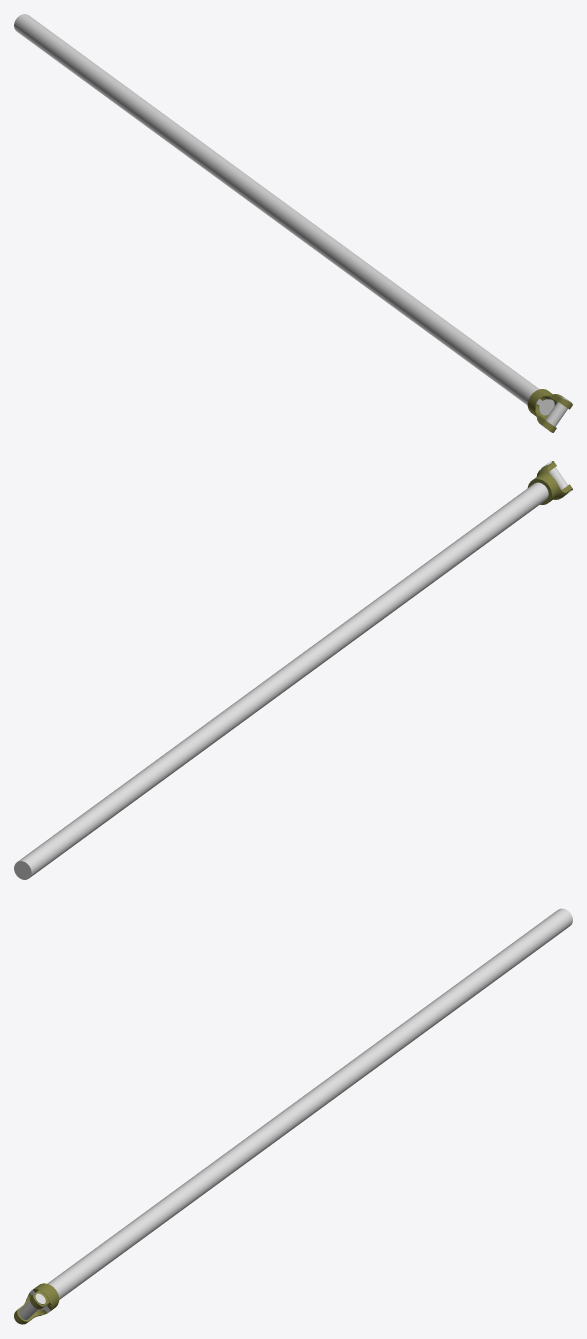
Rendered from RevoluteLinkUpper.glb.
3 views of the same model, one above another, from view 1: azimuth 30°, elevation 25°; view 2: azimuth 150°, elevation 25°; view 3: azimuth 330°, elevation 25° (orthographic).
Visible parts, largest first — view 1: IRB360_6-1600-STD-4D_rev03_RevoluteLinkUpper_CAD; view 2: IRB360_6-1600-STD-4D_rev03_RevoluteLinkUpper_CAD; view 3: IRB360_6-1600-STD-4D_rev03_RevoluteLinkUpper_CAD.
Boxes of the visible parts, x1,y1,x2,y2 form: IRB360_6-1600-STD-4D_rev03_RevoluteLinkUpper_CAD: (14, 14, 572, 432); IRB360_6-1600-STD-4D_rev03_RevoluteLinkUpper_CAD: (14, 461, 572, 879); IRB360_6-1600-STD-4D_rev03_RevoluteLinkUpper_CAD: (14, 908, 572, 1324).
Size of the model in its own units: 0.0238 by 0.0251 by 0.7658.
